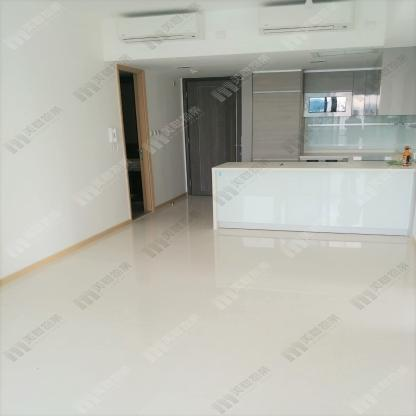AC: (258, 1, 354, 36), (117, 13, 204, 43)
